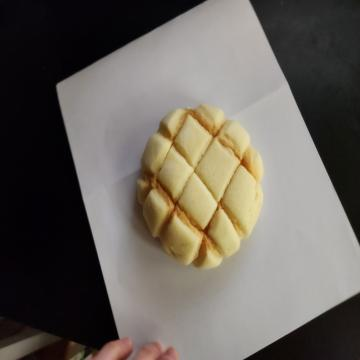melon_bread: (136, 103, 264, 273)
